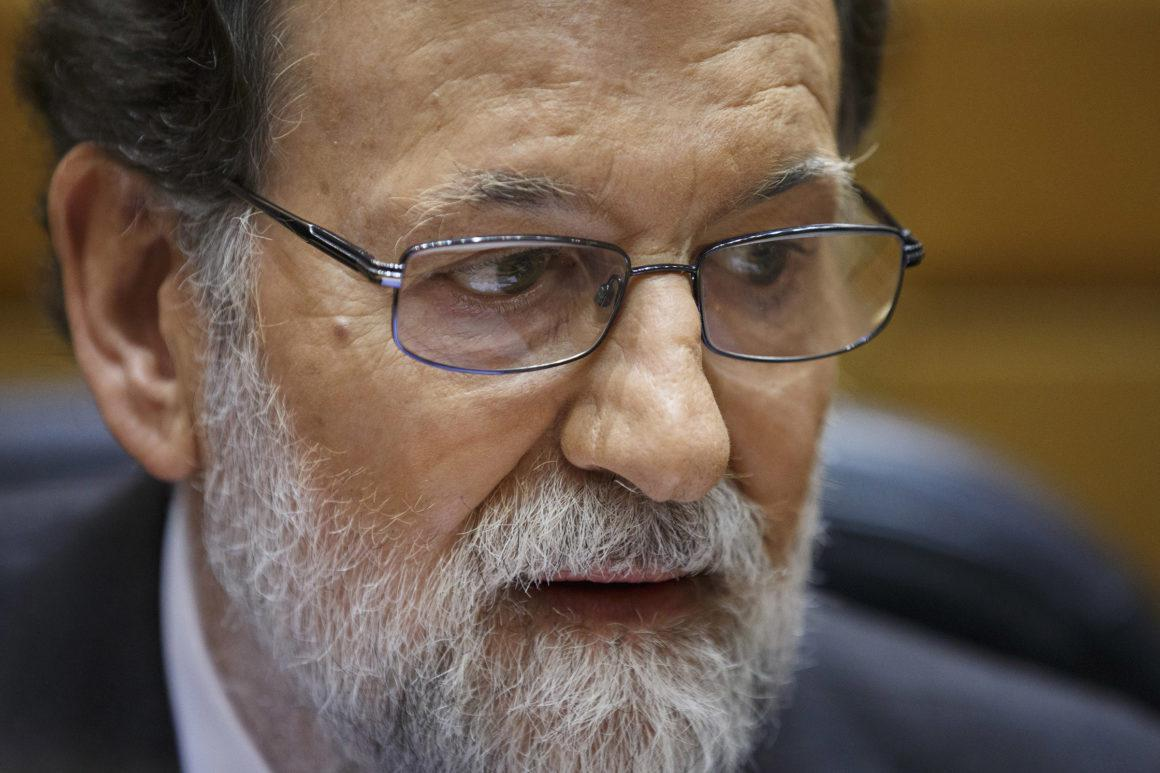Sober: (289, 12, 832, 741)
